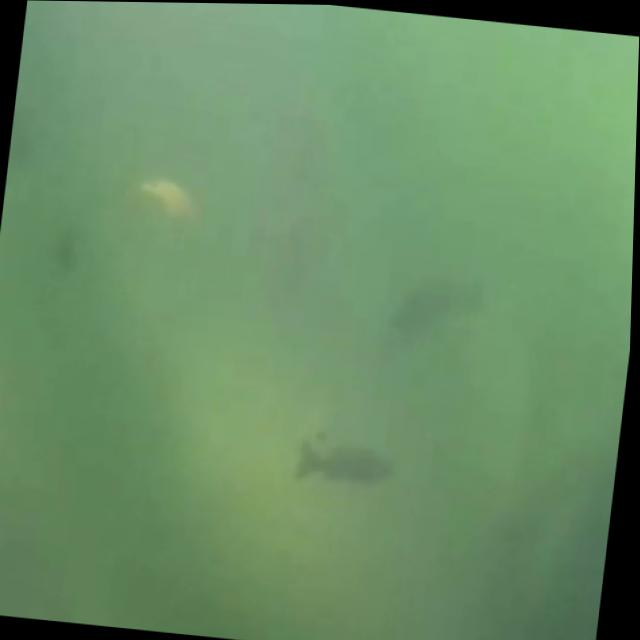fish: (277, 416, 413, 520)
